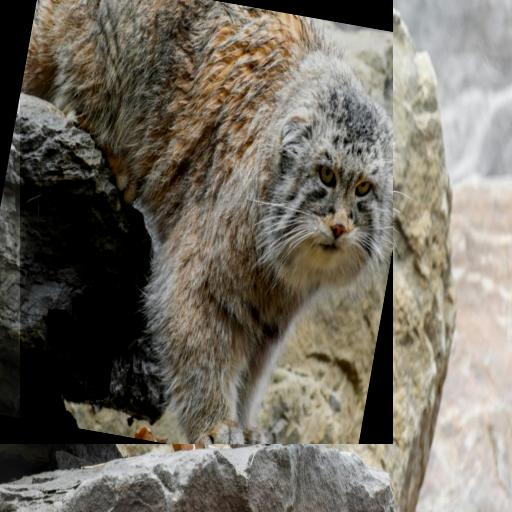manul: (21, 0, 393, 444)
